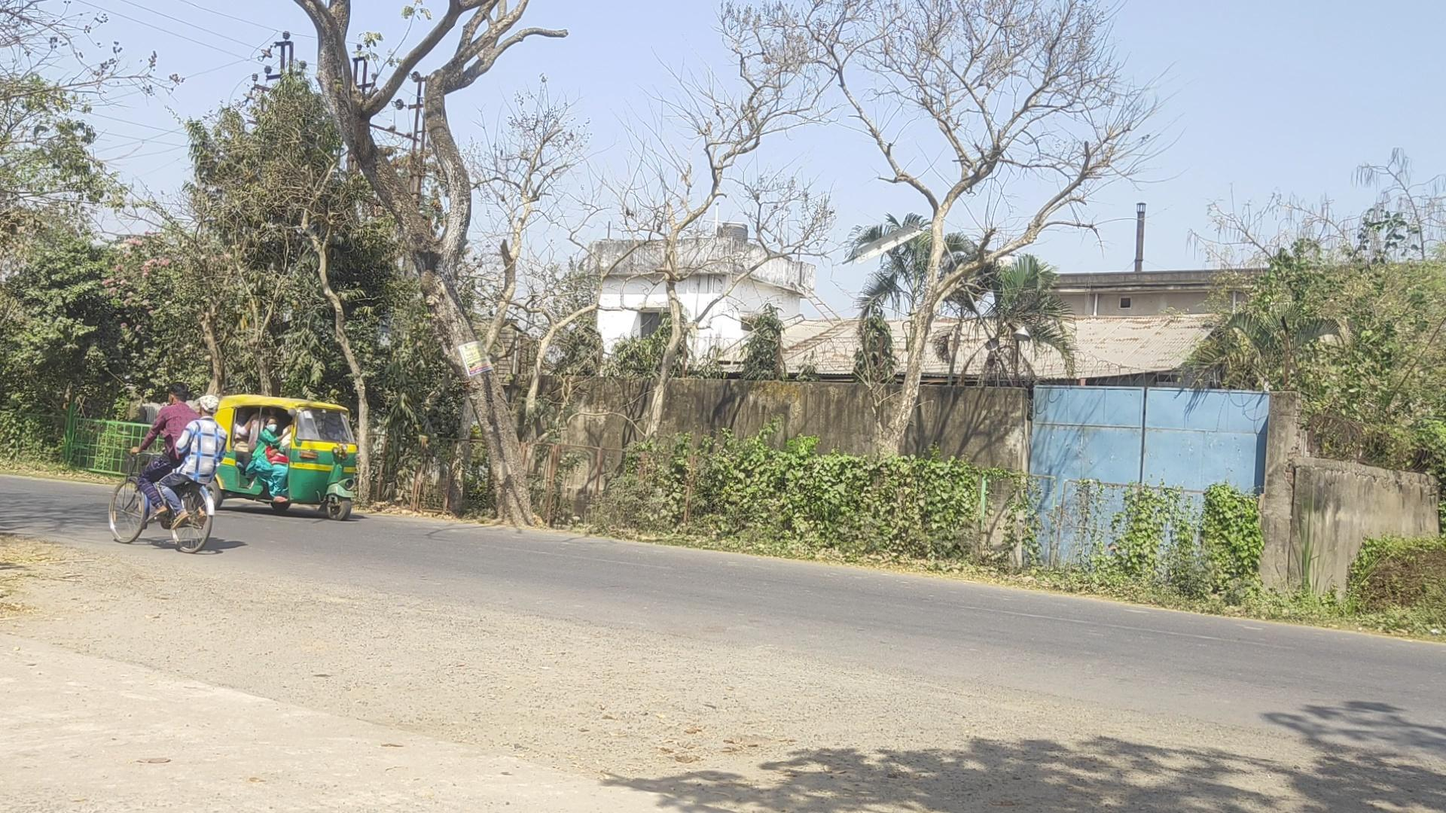Auto: (204, 394, 359, 522)
bike: (108, 382, 227, 553)
